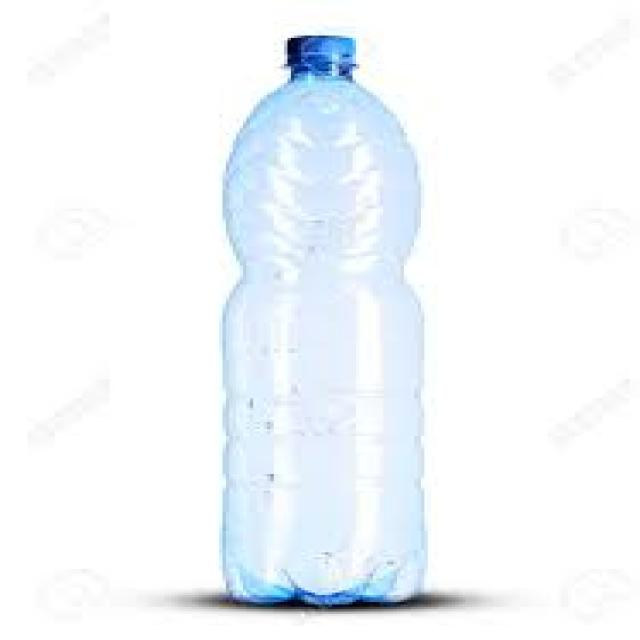plastic cup: (222, 37, 422, 604)
